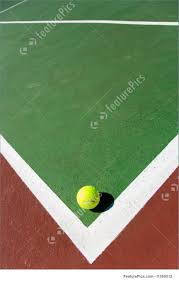tennis_ball: (76, 184, 101, 210)
